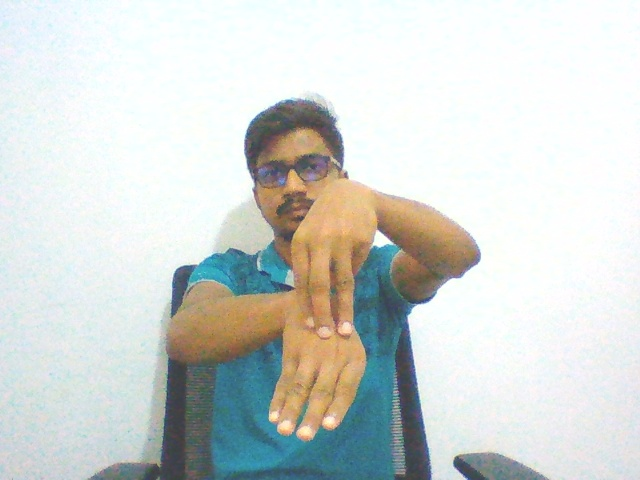papaya: (262, 175, 382, 449)
